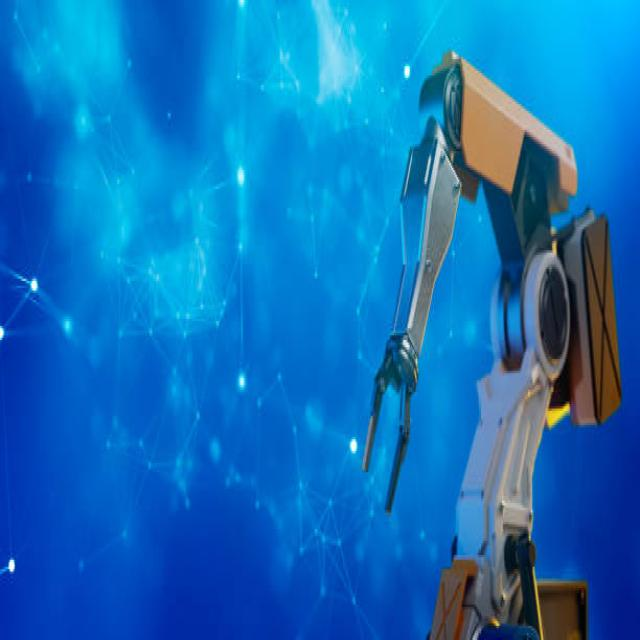Robotic-arm: (360, 35, 579, 640)
